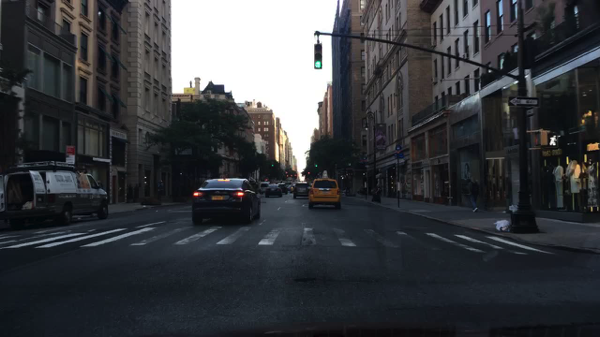car: (0, 160, 110, 226), (190, 176, 261, 227), (308, 168, 342, 212), (292, 182, 310, 198), (266, 184, 283, 199), (256, 182, 270, 195), (285, 182, 292, 193), (281, 183, 288, 193), (292, 181, 299, 190)
person: (465, 175, 481, 212)
traffic light: (314, 43, 323, 69), (271, 161, 274, 171), (314, 161, 318, 168)
traffic sign: (534, 129, 558, 151), (507, 97, 539, 108), (65, 146, 76, 154), (393, 152, 405, 159), (66, 158, 75, 166), (395, 144, 403, 151), (69, 154, 75, 160)
